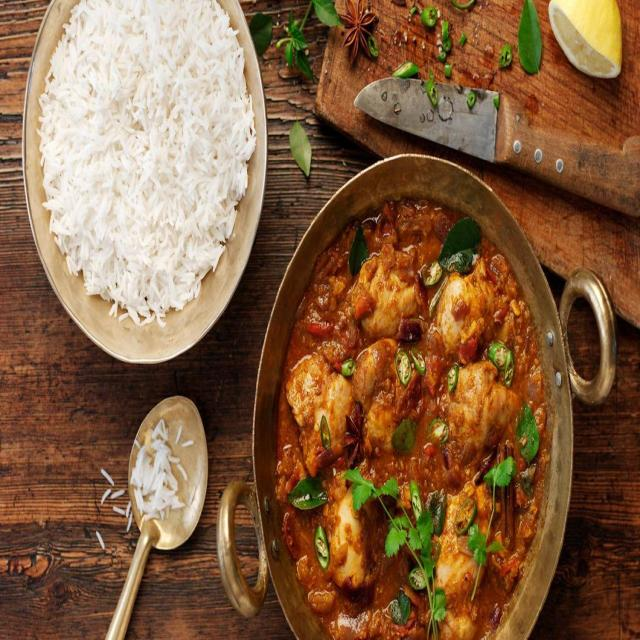chicken: (282, 192, 548, 640)
rice: (44, 0, 252, 314)
